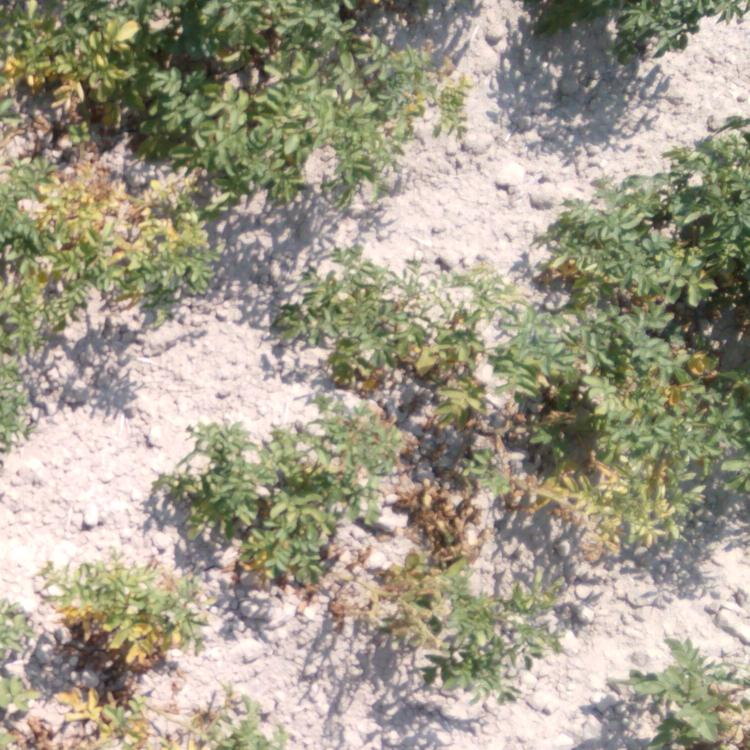healthy: (564, 147, 750, 319), (180, 7, 411, 140), (605, 641, 749, 750), (570, 1, 737, 54)
stressed: (531, 319, 728, 566), (349, 283, 488, 522), (15, 162, 210, 321), (21, 570, 193, 740), (369, 554, 526, 687), (201, 435, 343, 582), (1, 1, 165, 120)
